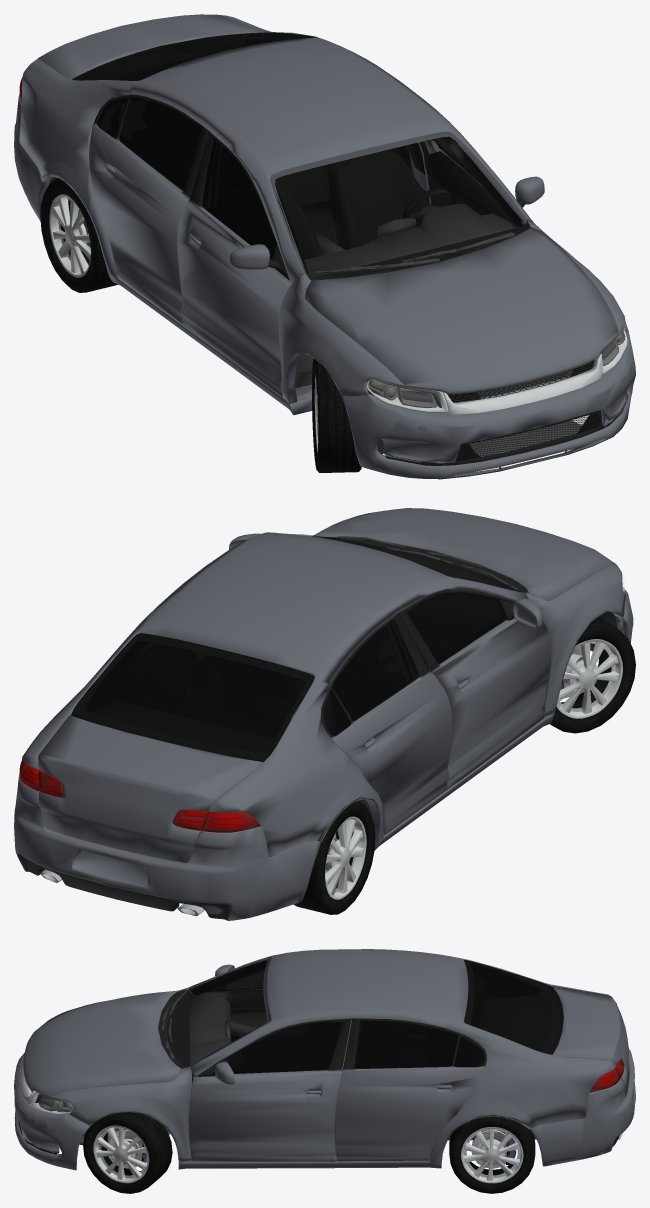
Rendered from grand-sedan-lod2.glb.
3 views of the same model, one above another, from view 1: azimuth 30°, elevation 25°; view 2: azimuth 150°, elevation 25°; view 3: azimuth 270°, elevation 25° (orthographic). The views are drawn at different scales.
Parts seen in each view (by area): view 1: sedan-unibody_65, hood_60, windshield_102, bumper-front_8, door-front-r_17, door-rear-r_23, fender-front-r_33, front-seat-backrest_39, dashboard_13, trunk_99, door-rear-window-glass-r_27, door-front-window-glass-r_19 (+21 smaller); view 2: sedan-unibody_65, glass-rear_42, trunk_99, bumper-rear_10, door-front-r_17, door-rear-r_23, hood_60, fender-front-r_33, door-rear-window-glass-r_27, door-front-window-glass-r_19, generic-wheel.001_126, generic-tire-low.001_125 (+8 smaller); view 3: sedan-unibody_65, door-front-l_16, door-rear-l_22, hood_60, windshield_102, glass-rear_42, fender-front-l_32, bumper-rear_10, trunk_99, door-rear-window-glass-l_26, door-front-window-glass-l_18, bumper-front_8 (+14 smaller).
Boxes of the visible parts, left/top/right/bottom form: sedan-unibody_65: left=19, top=15, right=533, bottom=415; hood_60: left=304, top=227, right=618, bottom=394; windshield_102: left=270, top=132, right=527, bottom=276; bumper-front_8: left=342, top=328, right=635, bottom=479; door-front-r_17: left=177, top=131, right=292, bottom=397; door-rear-r_23: left=89, top=94, right=208, bottom=323; fender-front-r_33: left=278, top=273, right=404, bottom=404; front-seat-backrest_39: left=328, top=149, right=428, bottom=249; dashboard_13: left=304, top=204, right=521, bottom=276; trunk_99: left=38, top=14, right=264, bottom=79; door-rear-window-glass-r_27: left=119, top=98, right=201, bottom=190; door-front-window-glass-r_19: left=202, top=140, right=276, bottom=259; sedan-unibody_65: left=20, top=532, right=554, bottom=856; glass-rear_42: left=71, top=633, right=314, bottom=761; trunk_99: left=37, top=715, right=263, bottom=862; bumper-rear_10: left=14, top=773, right=320, bottom=920; door-front-r_17: left=398, top=590, right=551, bottom=789; door-rear-r_23: left=321, top=613, right=452, bottom=834; hood_60: left=312, top=508, right=615, bottom=600; fender-front-r_33: left=525, top=564, right=625, bottom=717; door-rear-window-glass-r_27: left=333, top=620, right=419, bottom=721; door-front-window-glass-r_19: left=407, top=592, right=505, bottom=664; generic-wheel.001_126: left=556, top=639, right=622, bottom=718; generic-tire-low.001_125: left=550, top=617, right=635, bottom=733; sedan-unibody_65: left=178, top=949, right=621, bottom=1169; door-front-l_16: left=188, top=1018, right=351, bottom=1161; door-rear-l_22: left=334, top=1018, right=486, bottom=1161; hood_60: left=22, top=990, right=181, bottom=1097; windshield_102: left=167, top=958, right=270, bottom=1066; glass-rear_42: left=464, top=960, right=563, bottom=1054; fender-front-l_32: left=49, top=1066, right=192, bottom=1162; bumper-rear_10: left=530, top=1048, right=635, bottom=1166; trunk_99: left=552, top=986, right=629, bottom=1097; door-rear-window-glass-l_26: left=354, top=1020, right=458, bottom=1068; door-front-window-glass-l_18: left=227, top=1022, right=342, bottom=1073; bumper-front_8: left=14, top=1053, right=89, bottom=1170.
Size of the model in its own units: 2.07 by 1.44 by 4.78.
Materials: 21 (7 with a texture image).
